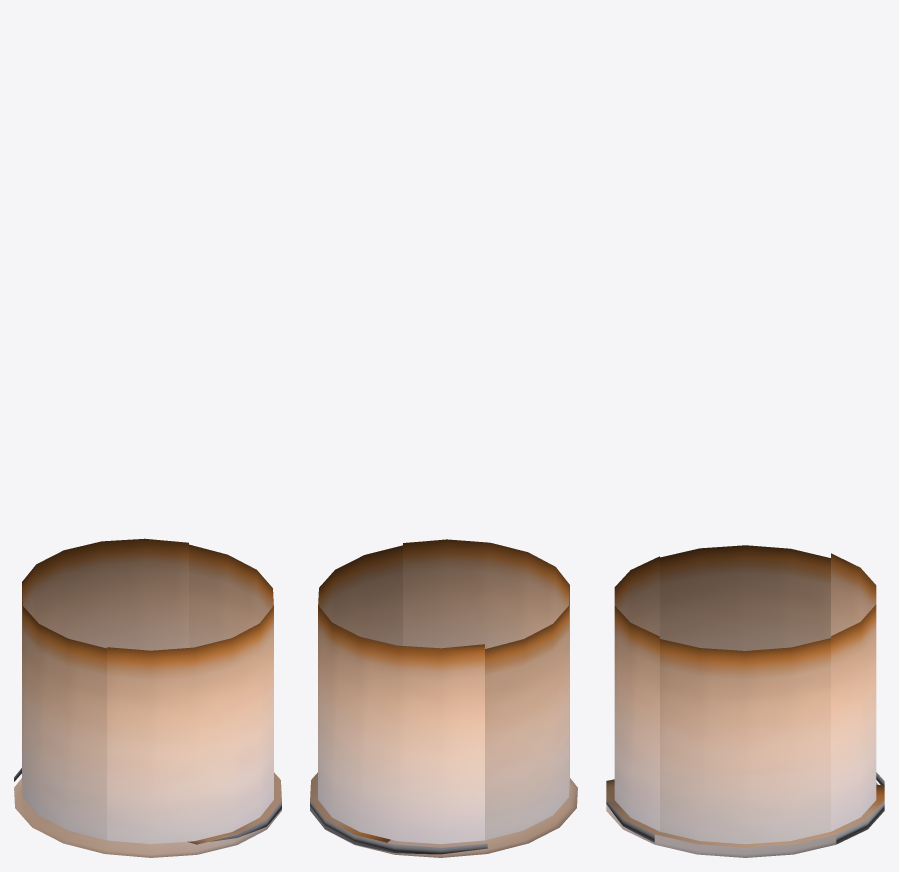
Rendered from 44 Caliber Bullet.FBX.
3 renders of one model, left to right at view 1: azimuth 30°, elevation 25°; view 2: azimuth 150°, elevation 25°; view 3: azimuth 270°, elevation 25°, orthographic.
Parts seen in each view (by area): view 1: Cylinder01; view 2: Cylinder01; view 3: Cylinder01.
Boxes of the visible parts, x1,y1,x2,y2 form: Cylinder01: (14,538,281,857); Cylinder01: (310,539,577,857); Cylinder01: (606,545,884,857).
Size of the model in its own units: 41.39 by 130 by 42.9.
